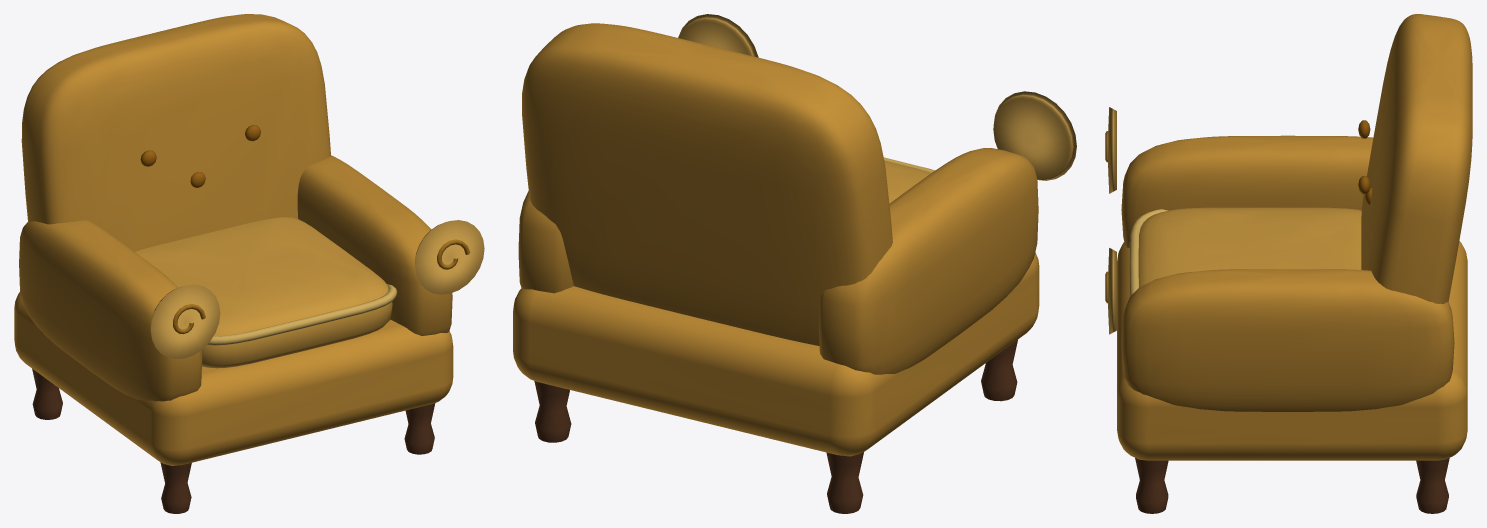
The model's file is style_armchair.glb.
3 renders of one model, left to right at view 1: azimuth 30°, elevation 25°; view 2: azimuth 150°, elevation 25°; view 3: azimuth 270°, elevation 25°, orthographic. The views are drawn at different scales.
Parts seen in each view (by area): view 1: style_armchair_main; view 2: style_armchair_main; view 3: style_armchair_main.
Boxes of the visible parts, x1=… form: style_armchair_main: x1=14, y1=14, x2=484, y2=513; style_armchair_main: x1=513, y1=14, x2=1076, y2=513; style_armchair_main: x1=1105, y1=14, x2=1472, y2=513.
Size of the model in its own units: 0.96 by 0.9608 by 0.8385.
